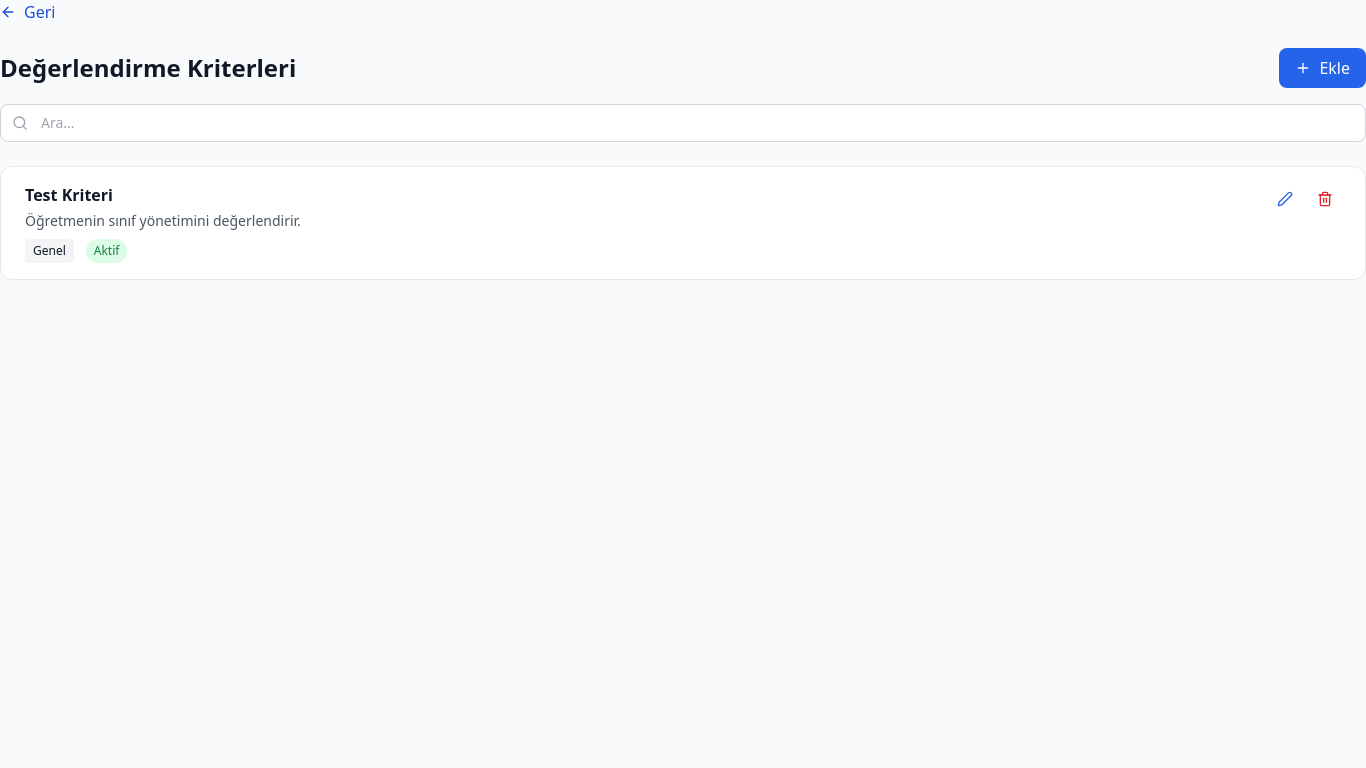
Test: CriteriaPage › düzenle butonuna tıklanınca FormModal açılır ve başlık güncellenir
The width and height of the screenshot is (1366, 768).
Expected: the heading "Test Kriteri" is shown, [25,184,113,206]
Click the 3rd button.
click(1285, 199)  # box [1269,183,1301,215]
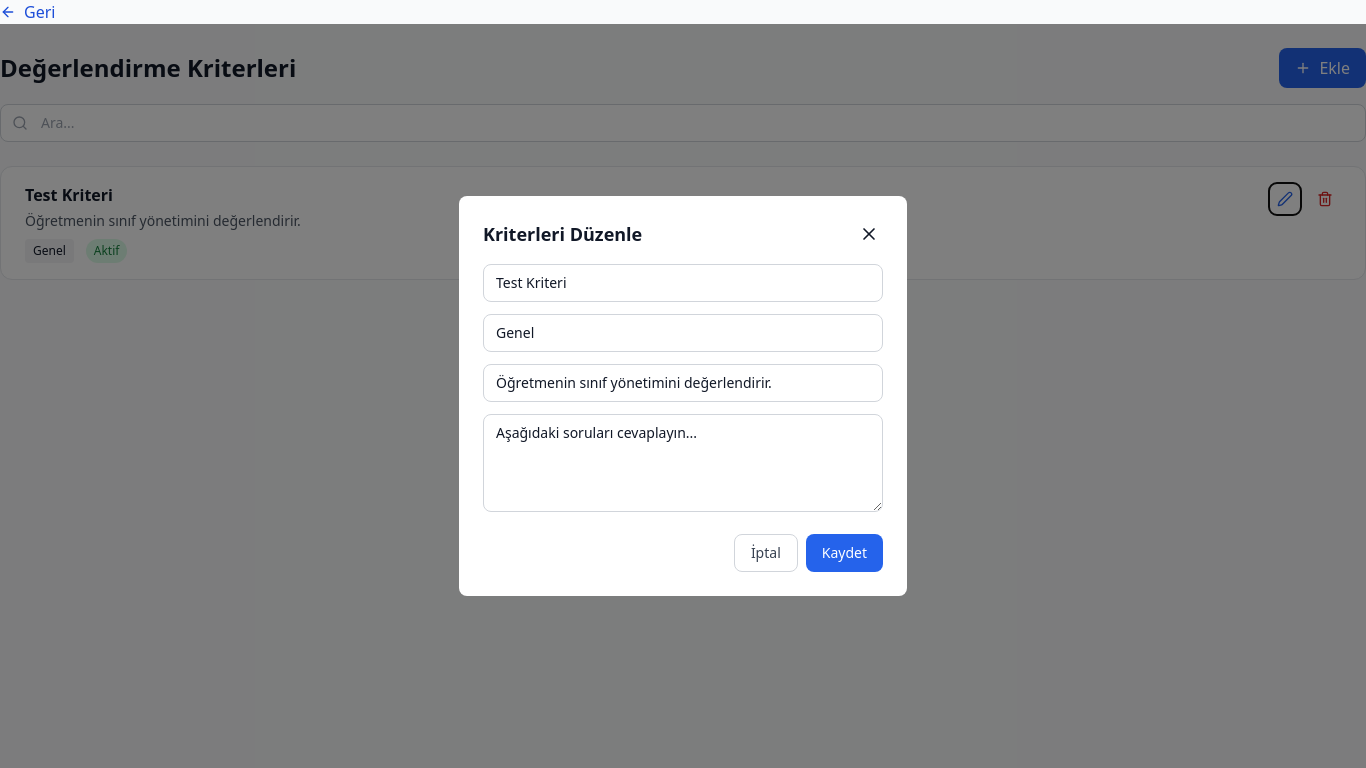
Expected: the button "Kaydet" is shown, [806,534,883,572]
